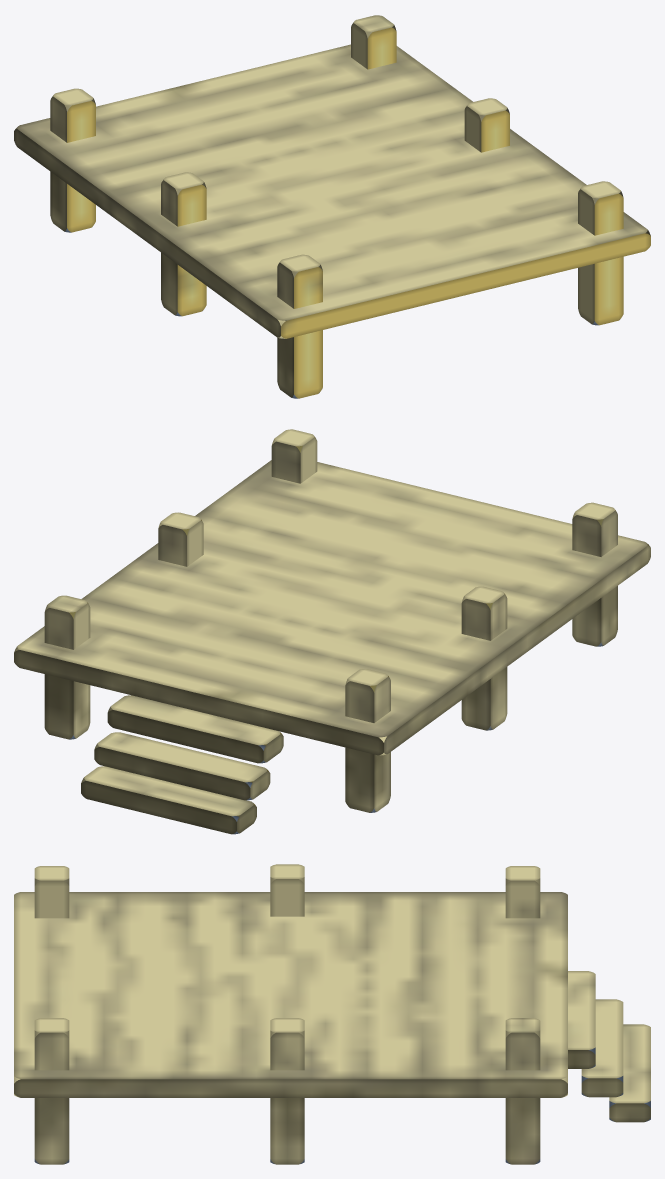
Rendered from house4.fbx.
The picture shows the model from 3 angles, top to bottom: view 1: azimuth 30°, elevation 25°; view 2: azimuth 150°, elevation 25°; view 3: azimuth 270°, elevation 25°; orthographic projection. The views are drawn at different scales.
Visible parts, largest first — view 1: base, pole_2, pole_1, pole_5, pole_3, pole_4, pole; view 2: base, stairs_1, stairs, stairs_2, pole, pole_3, pole_5, pole_2, pole_1, pole_4; view 3: base, pole_1, pole, pole_4, stairs_1, stairs_2, stairs, pole_2, pole_3, pole_5.
Part boxes in pixels (bbox=[...]): base: bbox=[14, 44, 650, 338]; pole_2: bbox=[277, 254, 322, 398]; pole_1: bbox=[578, 181, 623, 325]; pole_5: bbox=[161, 172, 206, 316]; pole_3: bbox=[50, 88, 95, 232]; pole_4: bbox=[464, 98, 509, 152]; pole: bbox=[351, 15, 396, 69]; base: bbox=[14, 460, 650, 755]; stairs_1: bbox=[94, 732, 270, 800]; stairs: bbox=[107, 695, 283, 763]; stairs_2: bbox=[81, 766, 256, 834]; pole: bbox=[44, 595, 90, 739]; pole_3: bbox=[345, 669, 390, 812]; pole_5: bbox=[461, 586, 507, 730]; pole_2: bbox=[572, 502, 617, 646]; pole_1: bbox=[271, 429, 317, 483]; pole_4: bbox=[158, 512, 203, 566]; base: bbox=[14, 892, 567, 1097]; pole_1: bbox=[34, 1018, 69, 1164]; pole: bbox=[505, 1018, 540, 1164]; pole_4: bbox=[270, 1018, 304, 1164]; stairs_1: bbox=[581, 999, 623, 1097]; stairs_2: bbox=[609, 1024, 650, 1122]; stairs: bbox=[568, 971, 595, 1068]; pole_2: bbox=[34, 866, 69, 918]; pole_3: bbox=[505, 866, 540, 918]; pole_5: bbox=[270, 864, 304, 916].
Bounding box in the file's own units: 200 × 67.19 × 288.
Materials: 1 (1 with a texture image).
